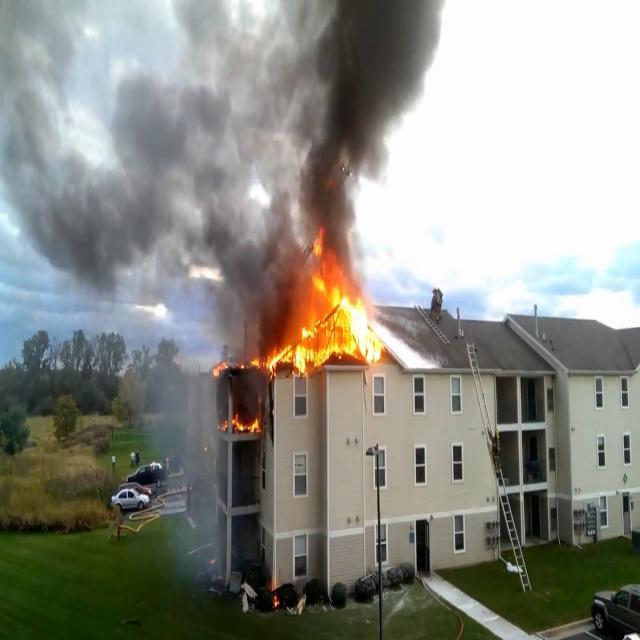Fire: (287, 259, 385, 370), (256, 340, 290, 374), (230, 406, 262, 436)
Smoke: (1, 0, 449, 308), (150, 317, 230, 576)
